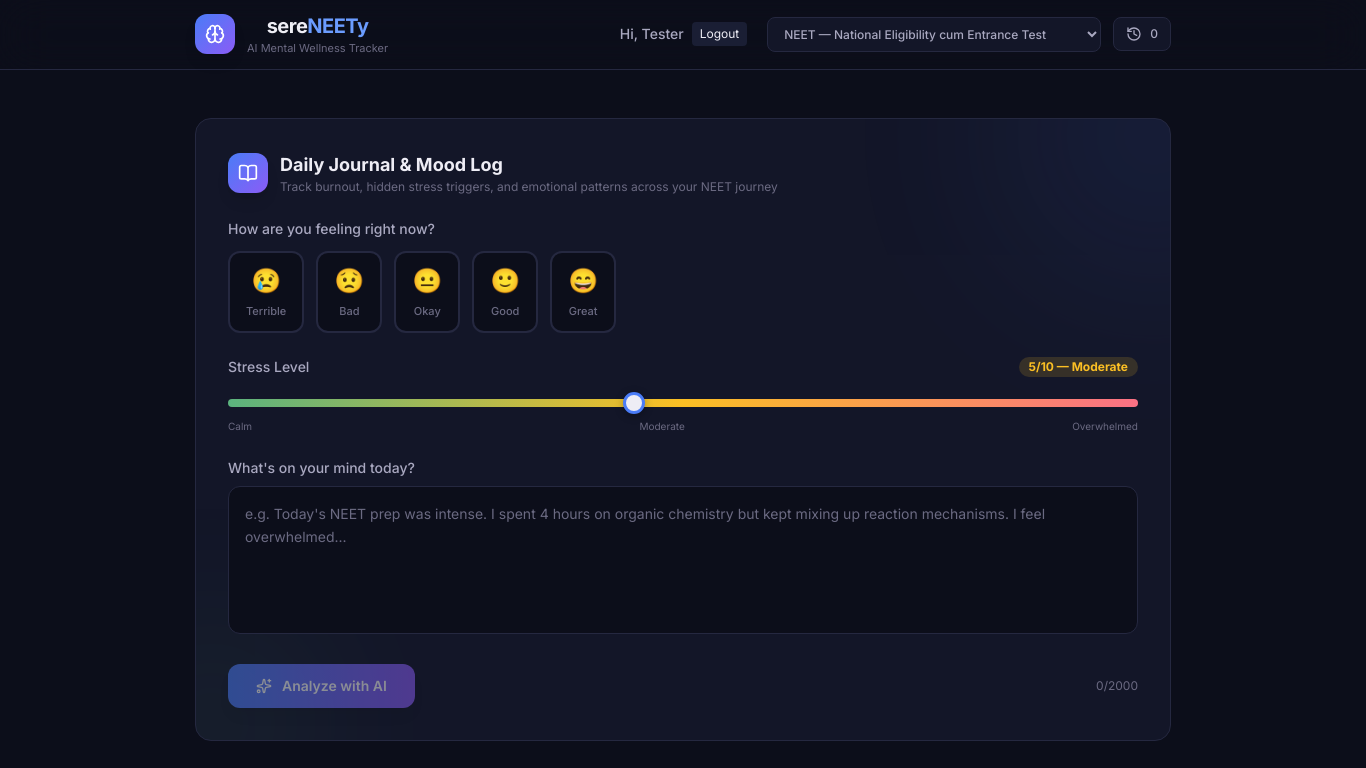
sereNEETy — Dashboard [CodeQuality:Efficiency:Accessibility:Security:Testing:ProblemStatement] › [Efficiency] shows loading state when analyze is clicked
Replace the text in the text box named "Write your daily journal entry" with "Test entry" at (683, 560), box [228,486,1138,634]
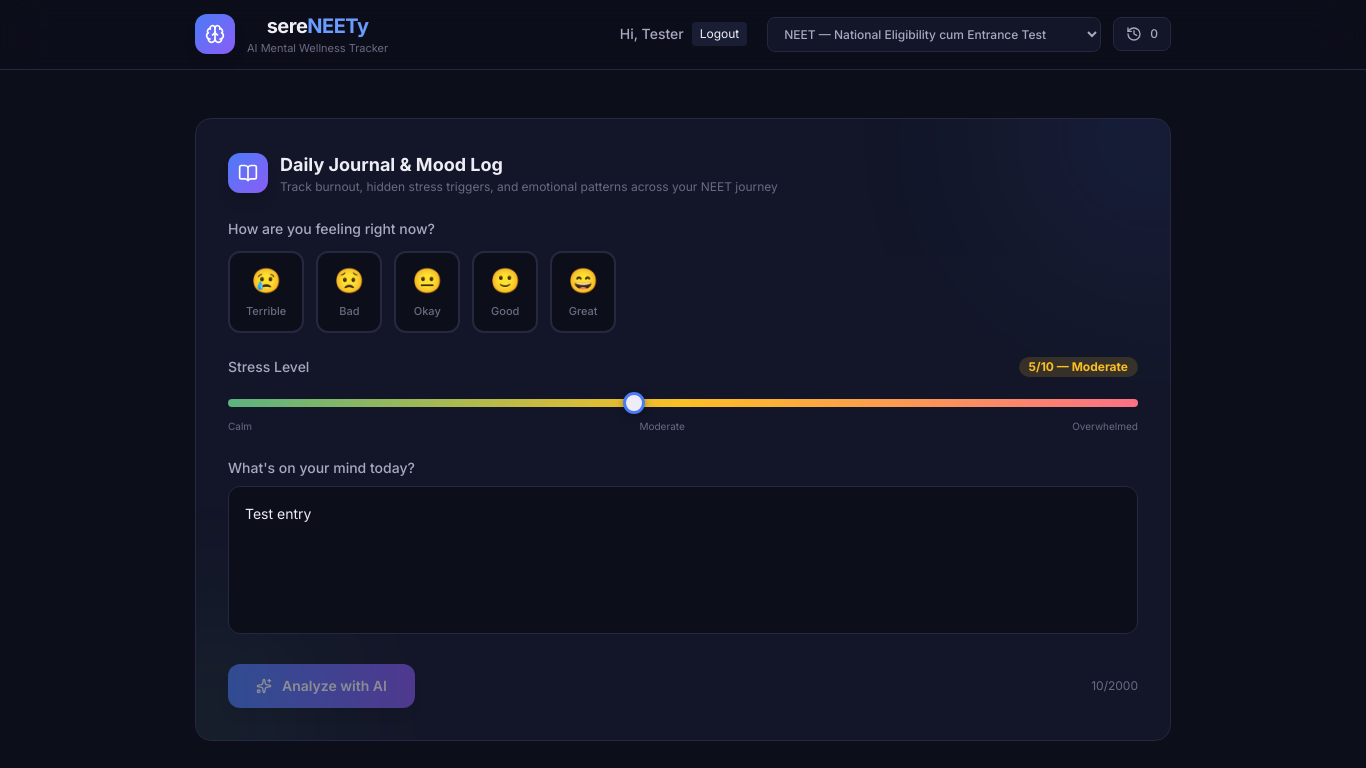
Click the radio button with aria-label "Mood: Good" at (505, 292), box [472,250,538,333]
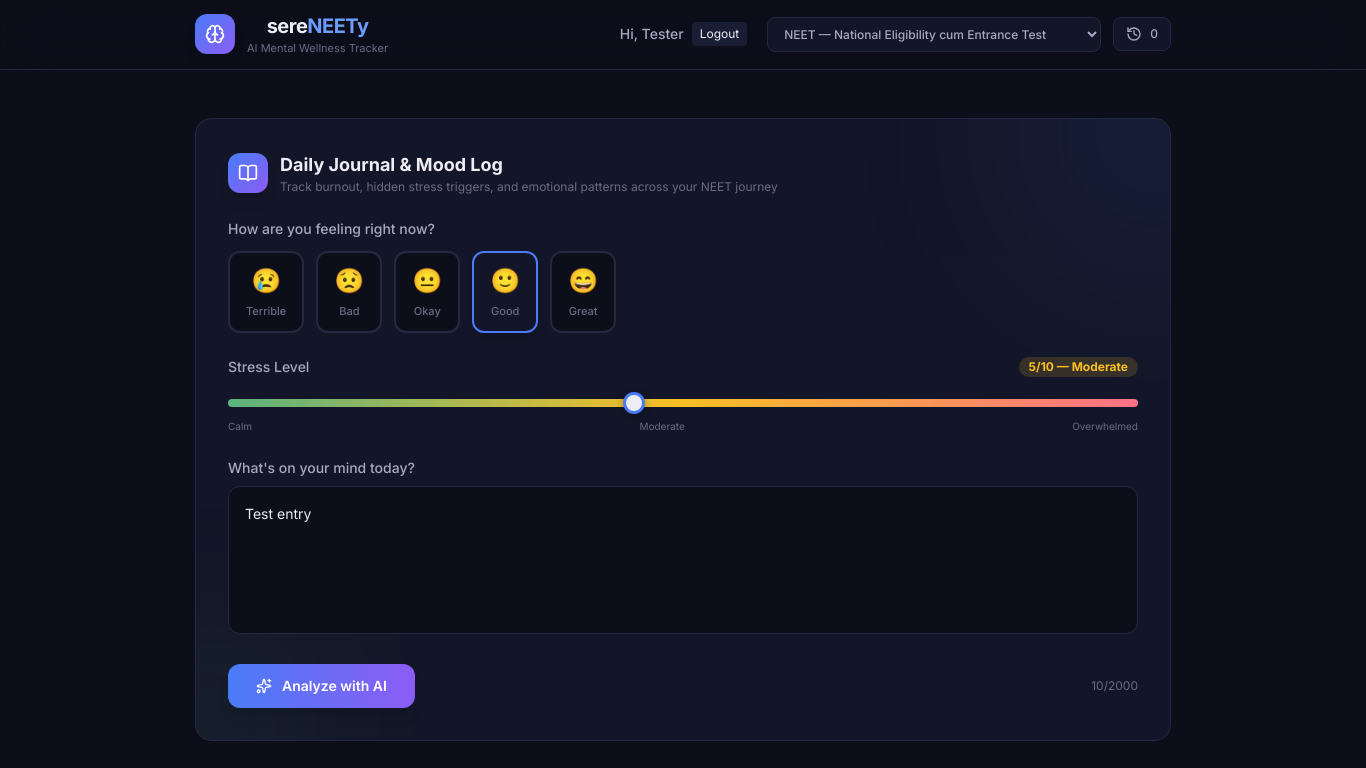
Click the button with aria-label "analyze journal entry" at (321, 686), box [228,664,415,708]
(page scrolled)
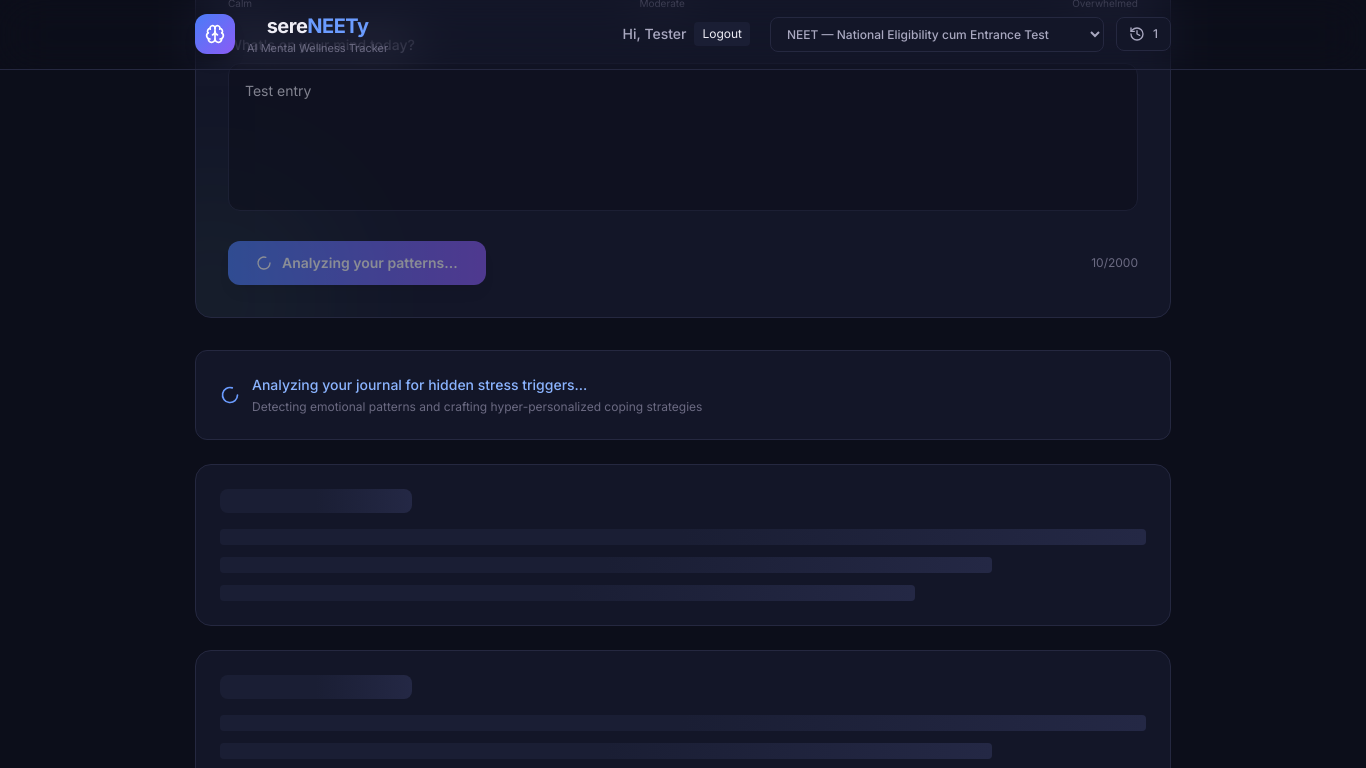
Check: the text "Analyzing your journal for hidden stress triggers..." is shown, box [252,376,587,393]
